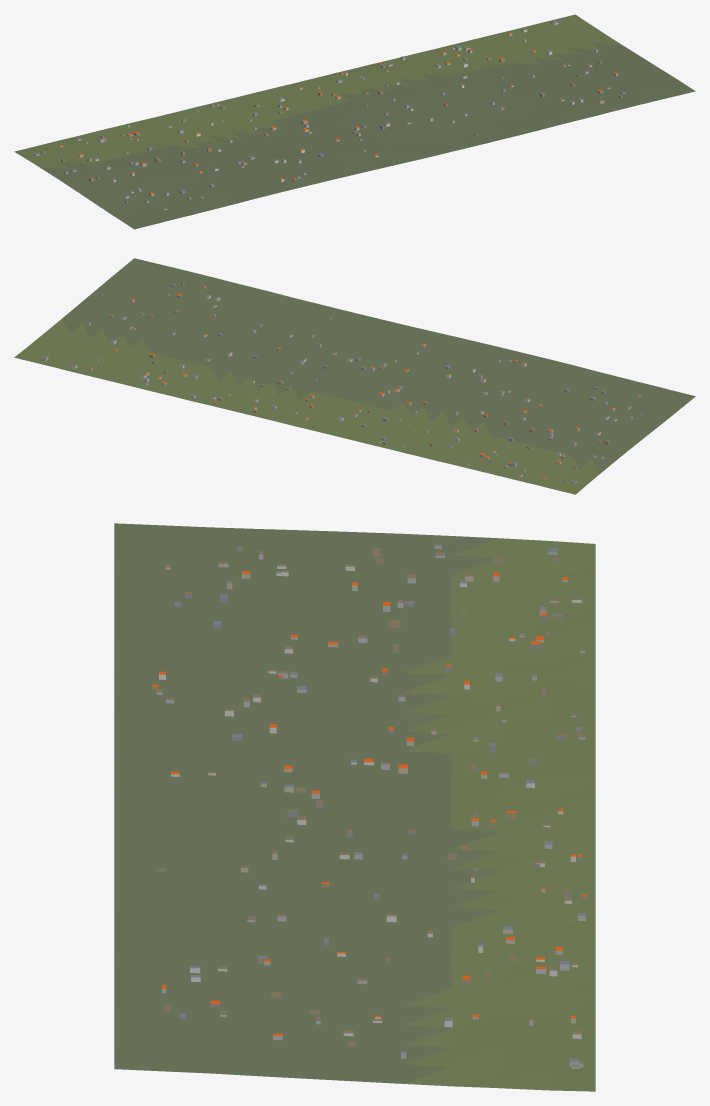
File: scenery-town.glb
3 views of the same model, one above another, from view 1: azimuth 30°, elevation 25°; view 2: azimuth 150°, elevation 25°; view 3: azimuth 270°, elevation 25° (orthographic). The views are drawn at different scales.
Parts seen in each view (by area): view 1: town; view 2: town; view 3: town.
Boxes of the visible parts, left/top/right/bottom form: town: left=14, top=14, right=695, bottom=229; town: left=14, top=258, right=695, bottom=494; town: left=114, top=523, right=595, bottom=1091.
Bounding box in the file's own units: 7000 × 158 × 2600.
1 material, 1 textured.
